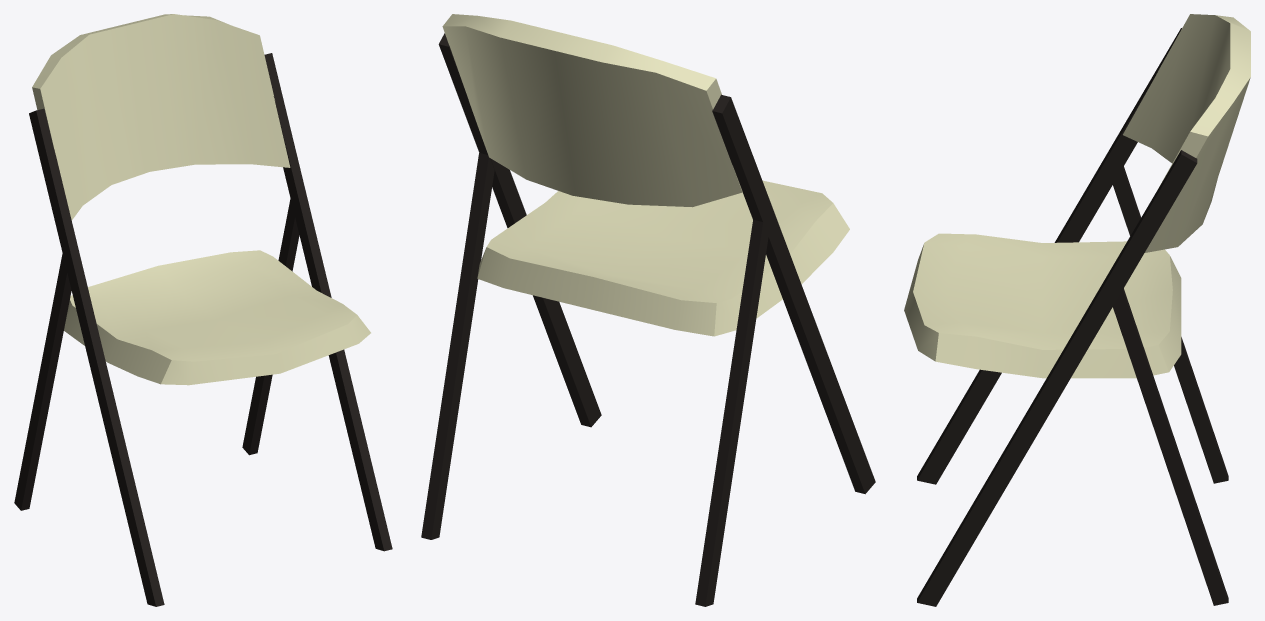
Rendered from folding_chair.glb.
The picture shows the model from 3 angles, left to right: view 1: azimuth 30°, elevation 25°; view 2: azimuth 150°, elevation 25°; view 3: azimuth 270°, elevation 25°; orthographic projection. The views are drawn at different scales.
Parts seen in each view (by area): view 1: Chair.Seat; view 2: Chair.Seat; view 3: Chair.Seat.
Part boxes in pixels (x1,y1,x2,y2): Chair.Seat: [14, 14, 392, 606]; Chair.Seat: [421, 14, 875, 606]; Chair.Seat: [904, 14, 1250, 606].
Size of the model in its own units: 0.4809 by 0.8803 by 0.5562.
